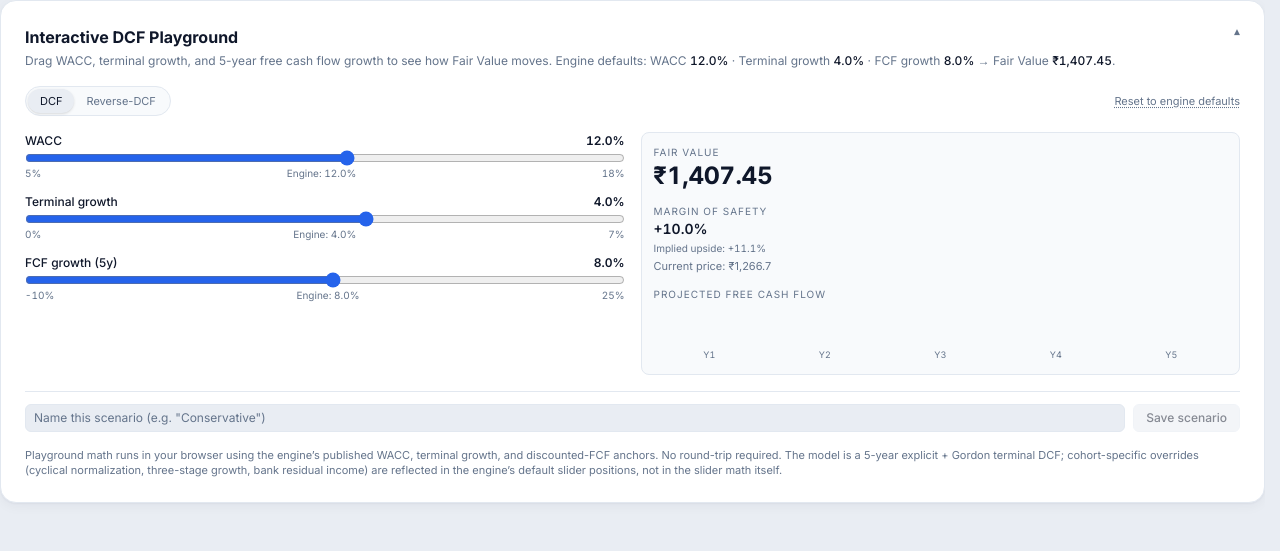
it: InteractiveDcfPlayground — Save Scenario › persists a named scenario to localStorage and shows a chip
This screenshot has width=1280, height=551.
Type "Conservative" into the field with test id "playground-scenario-input" at (575, 418), box [25, 404, 1125, 432]
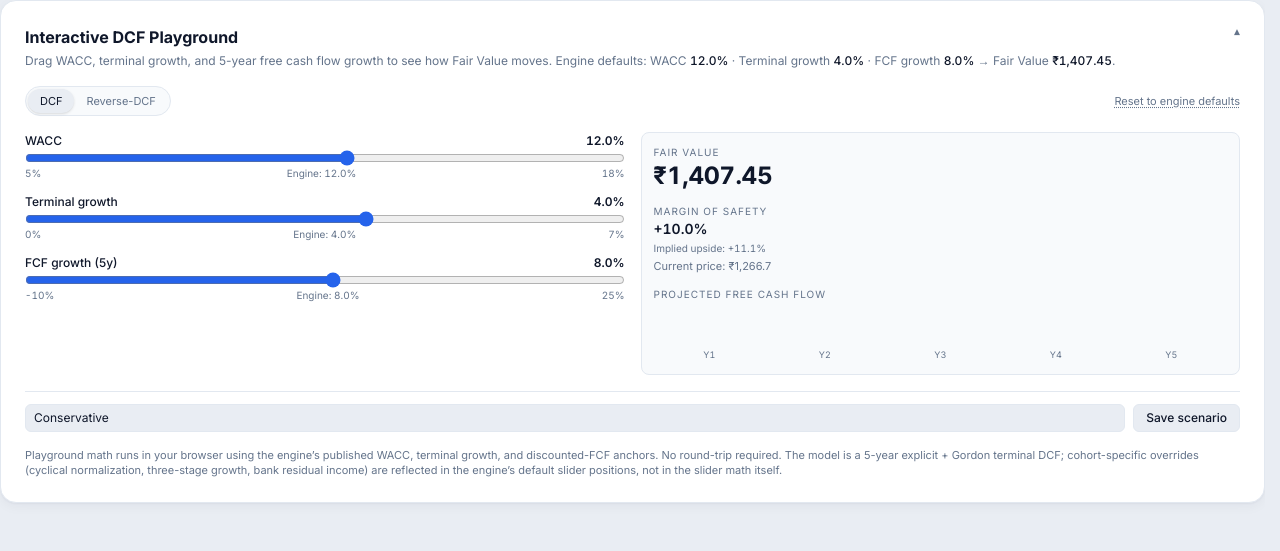
Click the button with test id "playground-save-scenario" at (1187, 418), box [1133, 404, 1240, 432]
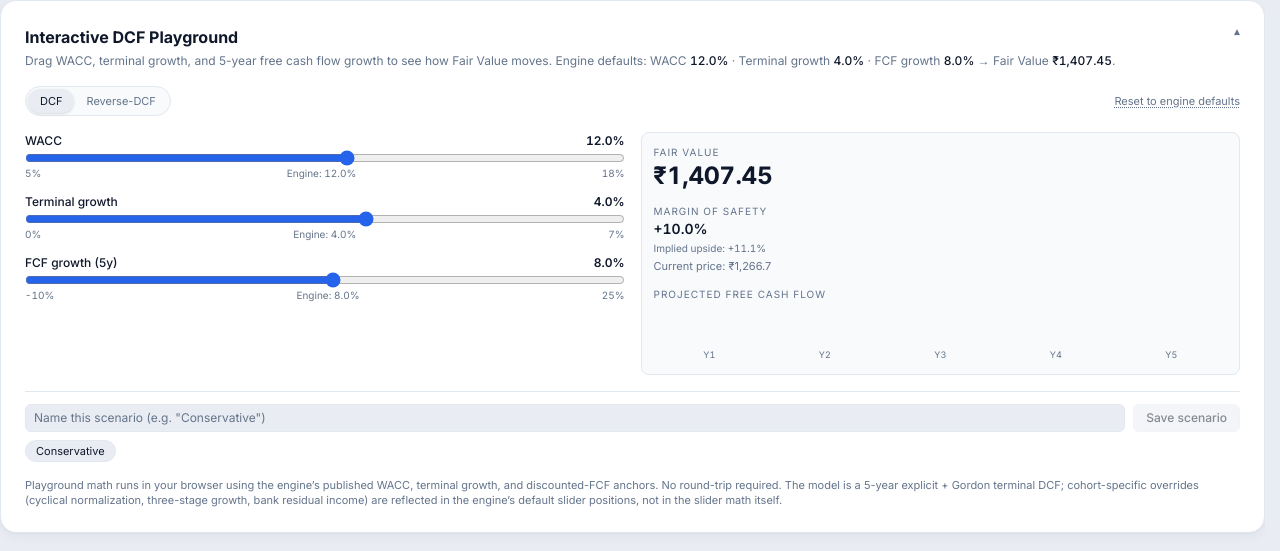
Result: the button with test id "playground-scenario-chip-Conservative" reads "Conservative" at [25, 440, 116, 462]
